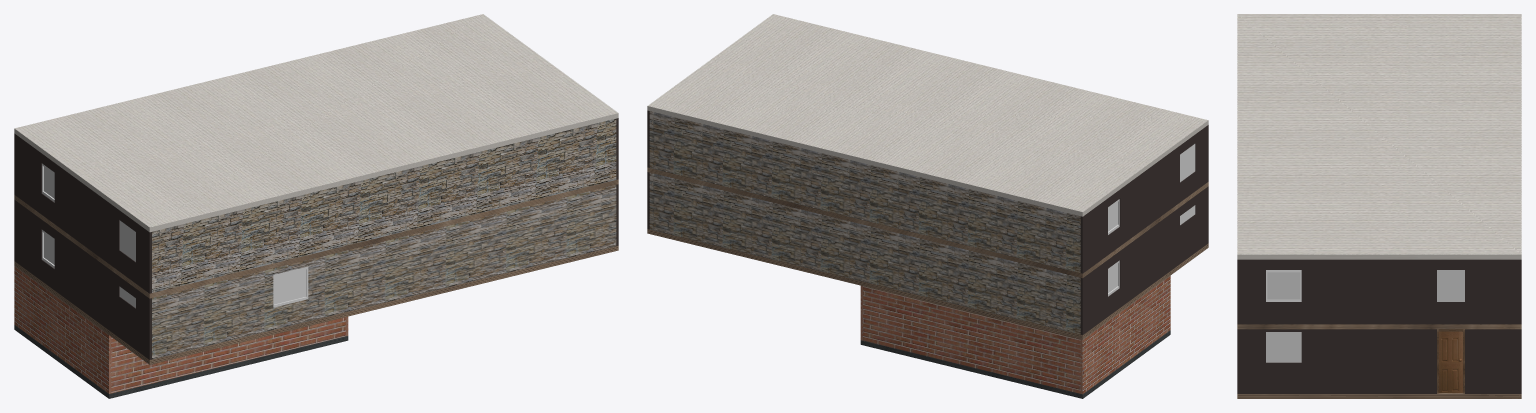
Rendered from CasaFinal1.fbx.
3 renders of one model, left to right at view 1: azimuth 30°, elevation 25°; view 2: azimuth 150°, elevation 25°; view 3: azimuth 270°, elevation 25°, orthographic. The views are drawn at different scales.
Parts seen in each view (by area): view 1: Cube.088, Cube.020, Cube.017, Cube.004, Cube.053, Cube.024, Cube.025, Cube.013, Cube.002, Cube.027, Cube.087; view 2: Cube.088, Cube.005, Cube.018, Cube.023, Cube.004, Cube.053, Cube.024, Cube.002, Cube.013, Cube.027; view 3: Cube.088, Cube.015, Cube.003, Cube.013, Cube.029, Cube.002, Cube.008, Cube.030, Cube.031, Cube, Cube.052.
Boxes of the visible parts, x1,y1,x2,y2 form: Cube.088: [14, 14, 618, 232]; Cube.020: [152, 118, 616, 292]; Cube.017: [152, 185, 616, 359]; Cube.004: [14, 200, 151, 359]; Cube.053: [14, 133, 151, 293]; Cube.024: [14, 266, 111, 393]; Cube.025: [111, 317, 345, 393]; Cube.013: [14, 179, 618, 298]; Cube.002: [14, 245, 618, 364]; Cube.027: [14, 325, 348, 398]; Cube.087: [274, 269, 306, 304]; Cube.088: [647, 14, 1208, 216]; Cube.005: [649, 172, 1080, 334]; Cube.018: [649, 111, 1080, 272]; Cube.023: [863, 286, 1080, 393]; Cube.004: [1080, 186, 1208, 334]; Cube.053: [1080, 125, 1208, 273]; Cube.024: [1080, 276, 1170, 394]; Cube.002: [647, 229, 1208, 339]; Cube.013: [647, 167, 1208, 278]; Cube.027: [860, 330, 1170, 398]; Cube.088: [1237, 14, 1521, 259]; Cube.015: [1237, 259, 1521, 324]; Cube.003: [1237, 329, 1521, 393]; Cube.013: [1237, 324, 1521, 329]; Cube.029: [1438, 331, 1463, 392]; Cube.002: [1237, 393, 1521, 398]; Cube.008: [1267, 272, 1300, 299]; Cube.030: [1267, 334, 1300, 359]; Cube.031: [1438, 272, 1463, 299]; Cube: [1437, 329, 1464, 393]; Cube.052: [1266, 270, 1301, 301].
Bounding box in the file's own units: 2008 × 820 × 1000.
